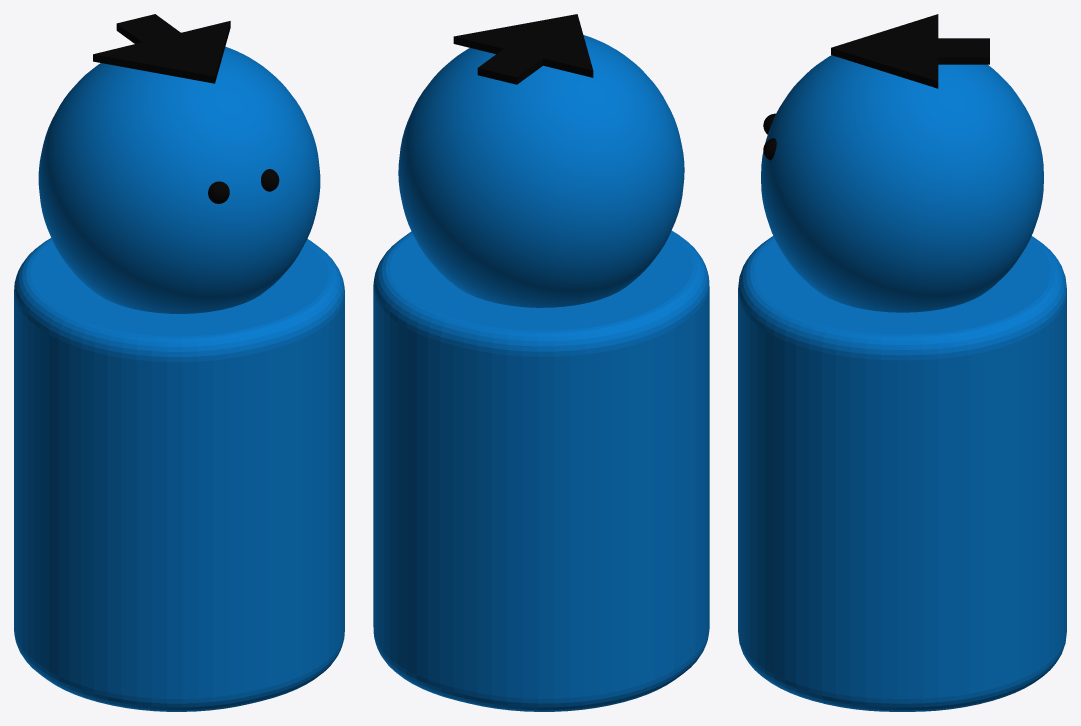
3 views of the same model, side by side, from view 1: azimuth 30°, elevation 25°; view 2: azimuth 150°, elevation 25°; view 3: azimuth 270°, elevation 25° (orthographic).
Parts seen in each view (by area): view 1: Cube.004_Cube.014_Material.006, Cube.004_Cube.014_SVGMat; view 2: Cube.004_Cube.014_Material.006, Cube.004_Cube.014_SVGMat; view 3: Cube.004_Cube.014_Material.006, Cube.004_Cube.014_SVGMat.
Part boxes in pixels (x1,y1,x2,y2): Cube.004_Cube.014_Material.006: (14, 46, 344, 711); Cube.004_Cube.014_SVGMat: (93, 14, 279, 203); Cube.004_Cube.014_Material.006: (373, 35, 709, 711); Cube.004_Cube.014_SVGMat: (453, 14, 593, 84); Cube.004_Cube.014_Material.006: (738, 55, 1066, 711); Cube.004_Cube.014_SVGMat: (763, 14, 989, 160).
Size of the model in its own units: 0.2392 by 0.4819 by 0.2392.
